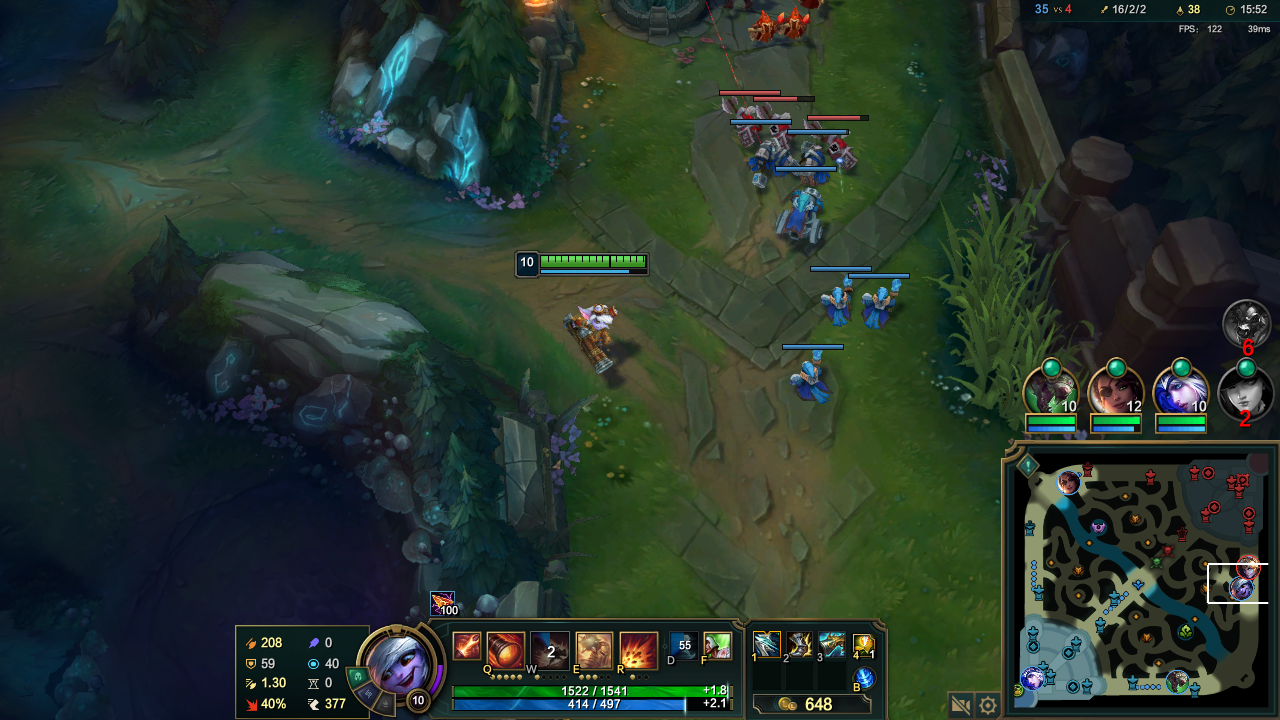DFXB: (810, 120, 856, 170), (765, 105, 808, 158), (726, 100, 772, 149), (774, 5, 821, 47), (742, 9, 786, 47)
WFXB: (771, 175, 835, 254), (784, 354, 842, 410), (856, 278, 908, 327), (809, 277, 857, 327), (741, 137, 787, 186), (793, 142, 832, 191)
